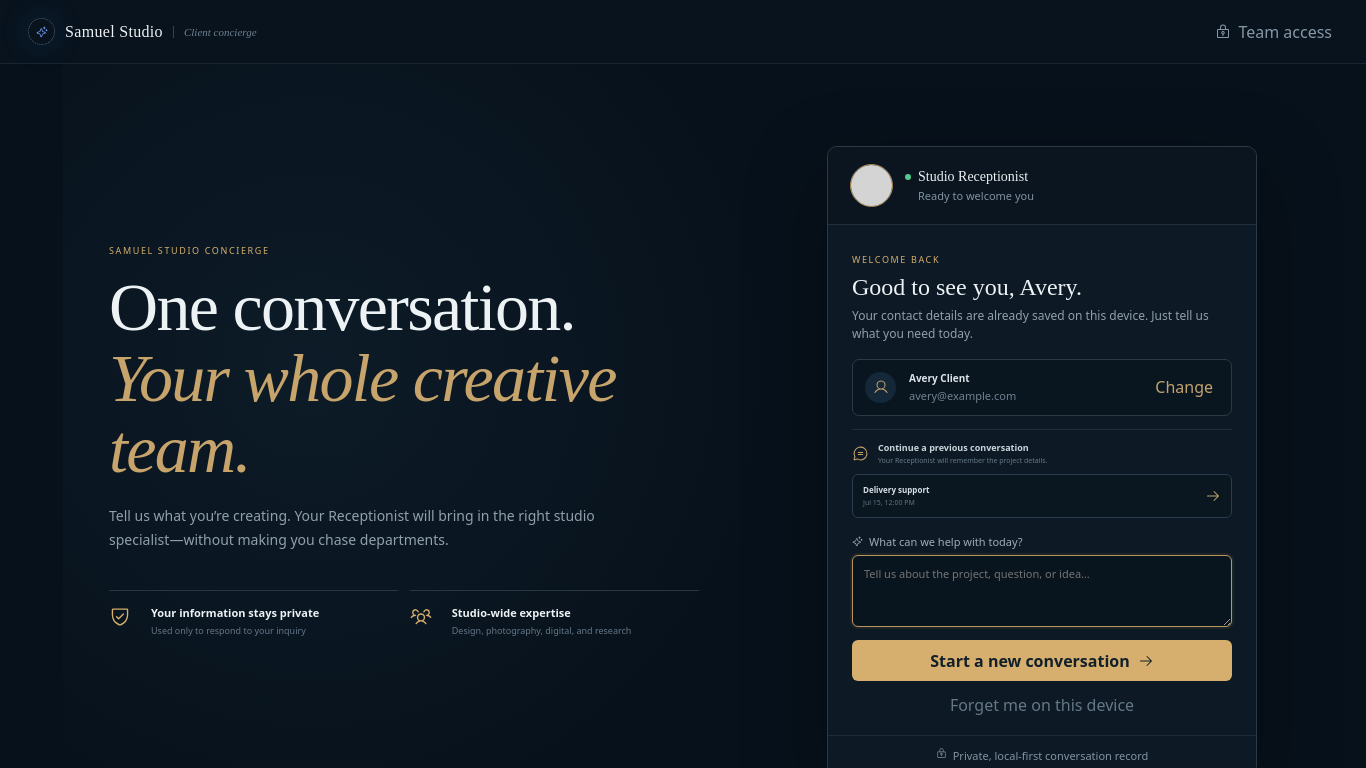
public concierge privacy defaults › shows only the public-safe case status after a remembered conversation resumes
The width and height of the screenshot is (1366, 768).
Click the button "Delivery support Jul 15, 12:00 PM". click: x=896, y=490
box: [852,474,1232,518]
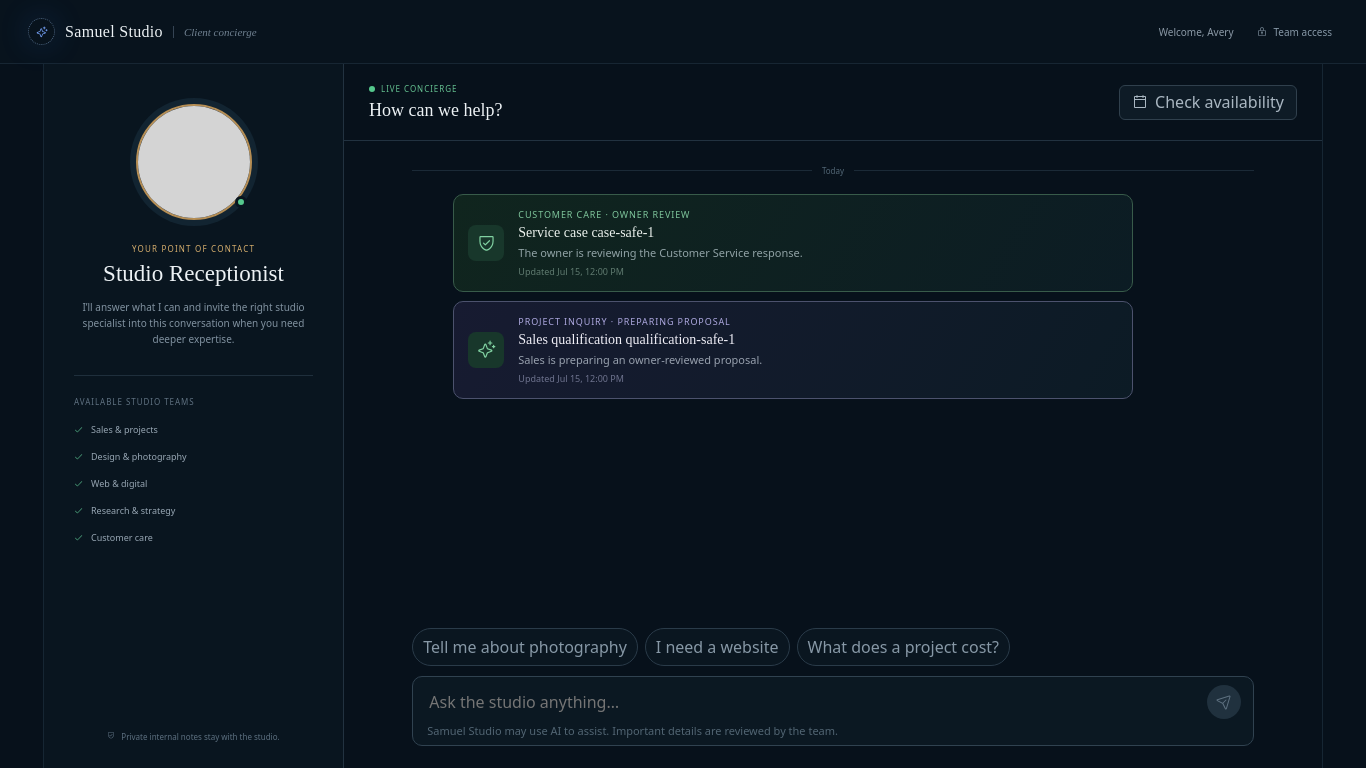
Now the text "Service case case-safe-1" is shown, box [518,225,654,240]
Now the text "Customer care · Owner review" is shown, box [518,208,690,221]
Now the text "The owner is reviewing the Customer Service response." is shown, box [518,245,803,260]
